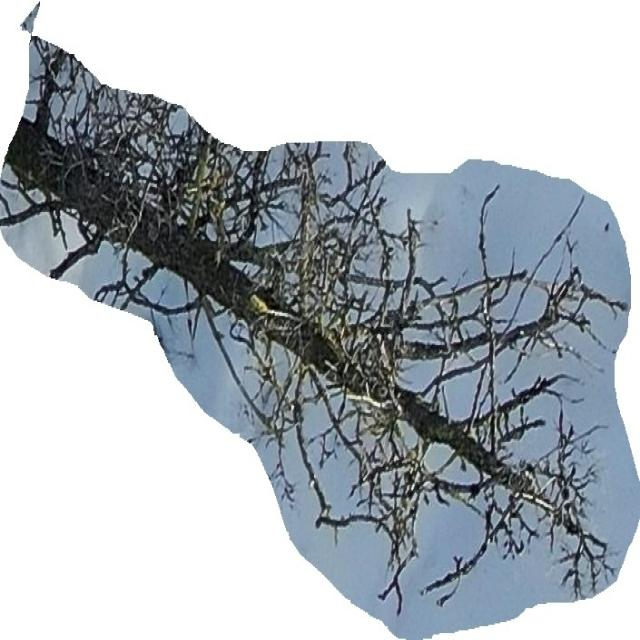trembling aspen: (0, 36, 639, 639)
